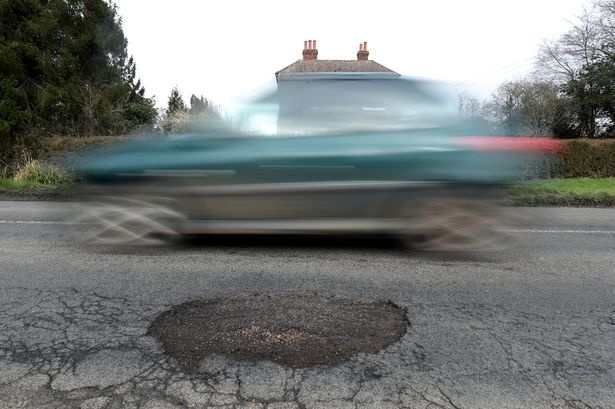pothole: (122, 286, 464, 374)
